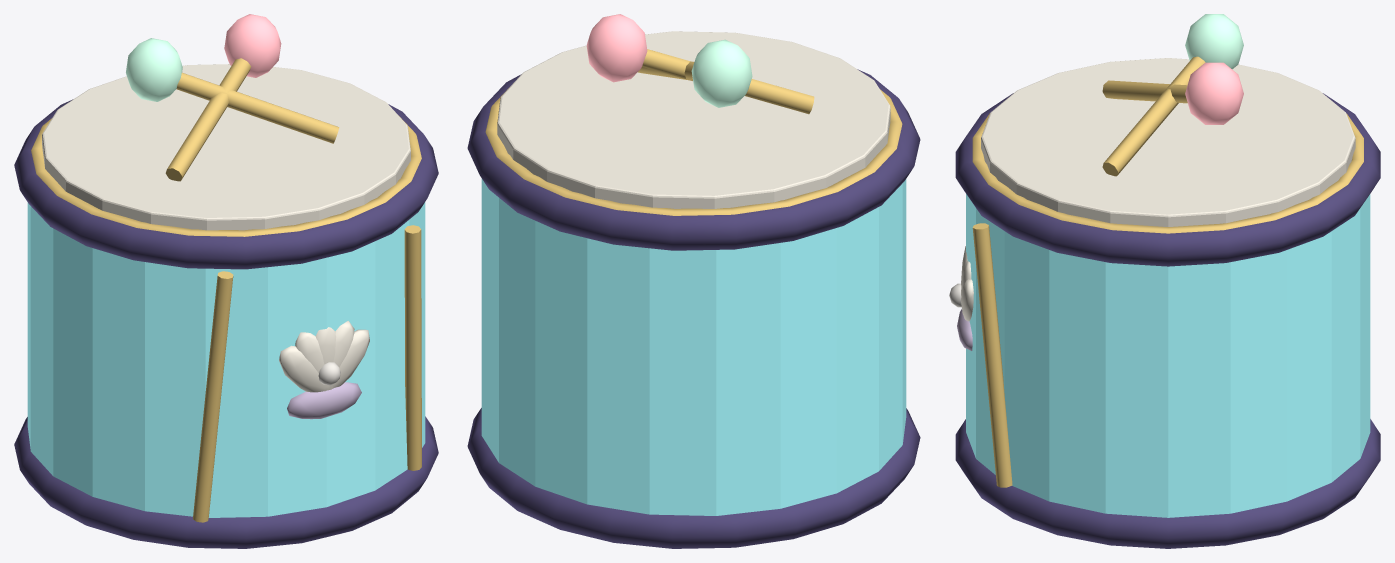
Rendered from pearl_shell_drum.glb.
3 renders of one model, left to right at view 1: azimuth 30°, elevation 25°; view 2: azimuth 150°, elevation 25°; view 3: azimuth 270°, elevation 25°, orthographic. The views are drawn at different scales.
Visible parts, largest first — view 1: pearl_shell_drum.001; view 2: pearl_shell_drum.001; view 3: pearl_shell_drum.001.
Boxes of the visible parts, left/top/right/bottom form: pearl_shell_drum.001: left=14, top=14, right=438, bottom=548; pearl_shell_drum.001: left=467, top=14, right=920, bottom=548; pearl_shell_drum.001: left=949, top=14, right=1380, bottom=548.
Size of the model in its own units: 4.08 by 4.44 by 4.1.
